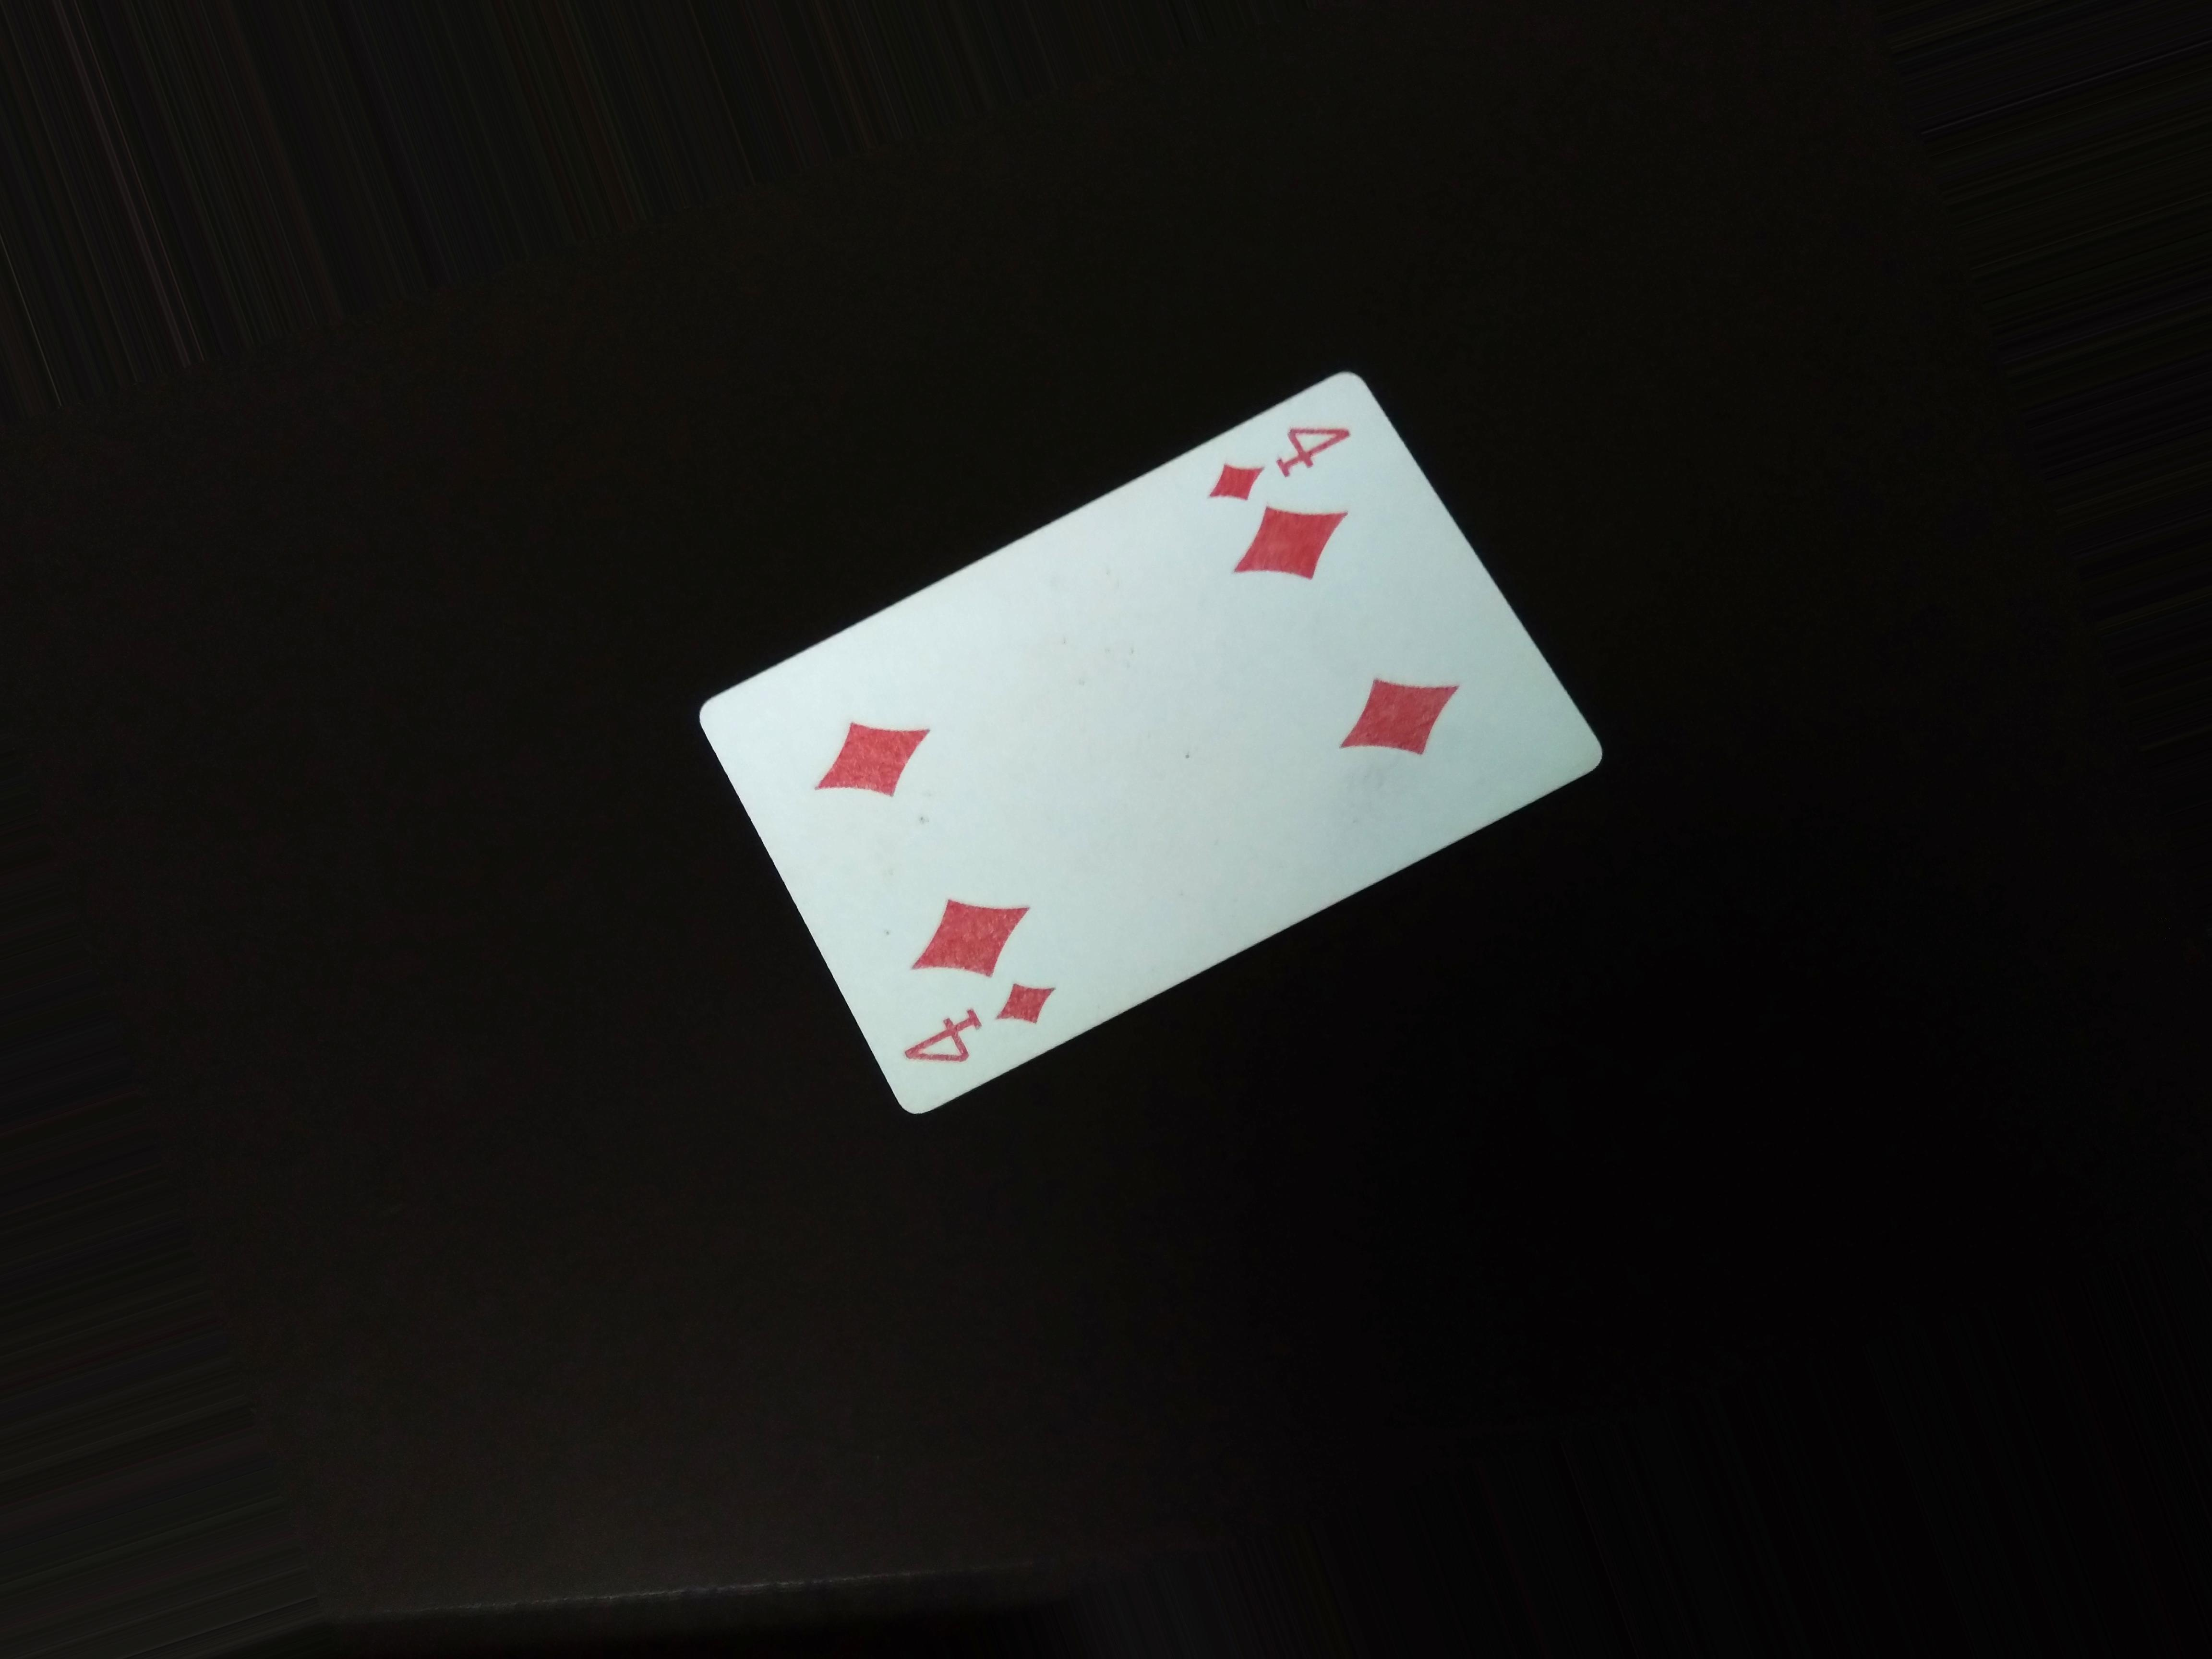4D: (907, 983, 1059, 1080)
